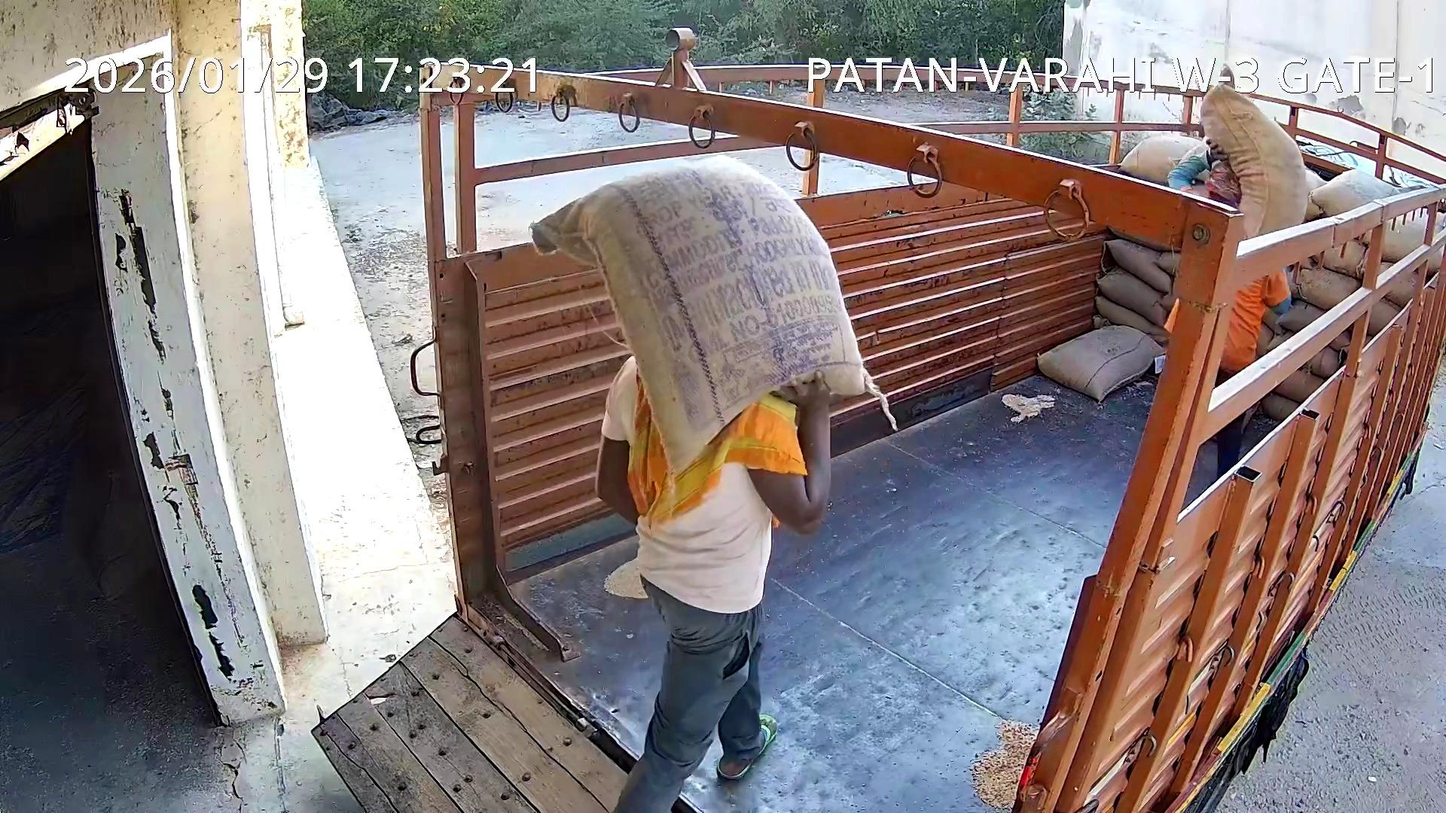Sack: (532, 156, 888, 465), (1201, 85, 1310, 237)
